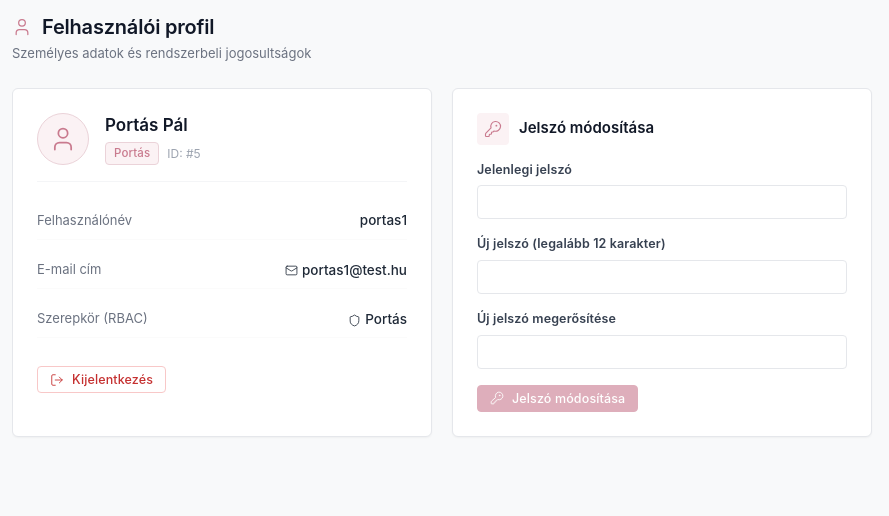
Test: ProfilePage password change › sends the current and new password and clears the form on success
Type "RegiJelszo12345" into the password field labelled "Jelenlegi jelszó".
click(662, 202); type("RegiJelszo12345")  # box [477,185,847,219]
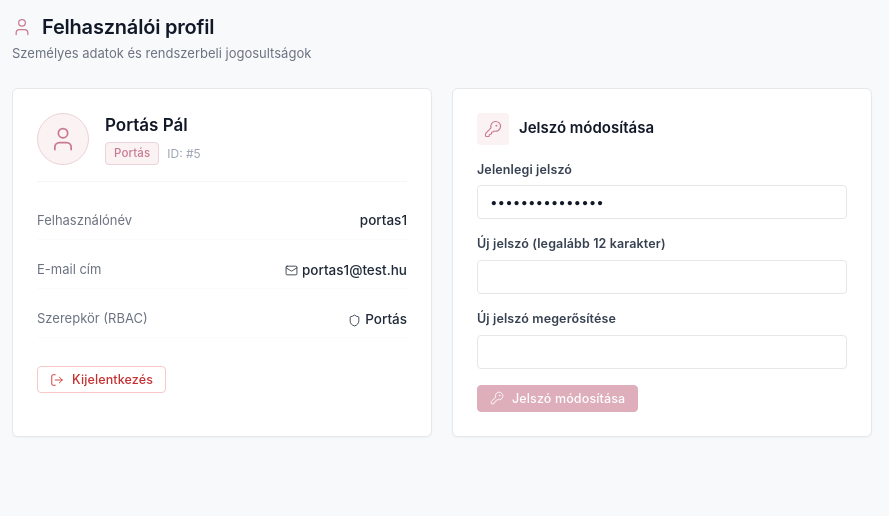
Type "UjJelszo1234567" into the password field labelled "Új jelszó (legalább 12 karakter)".
click(662, 277); type("UjJelszo1234567")  # box [477,260,847,294]
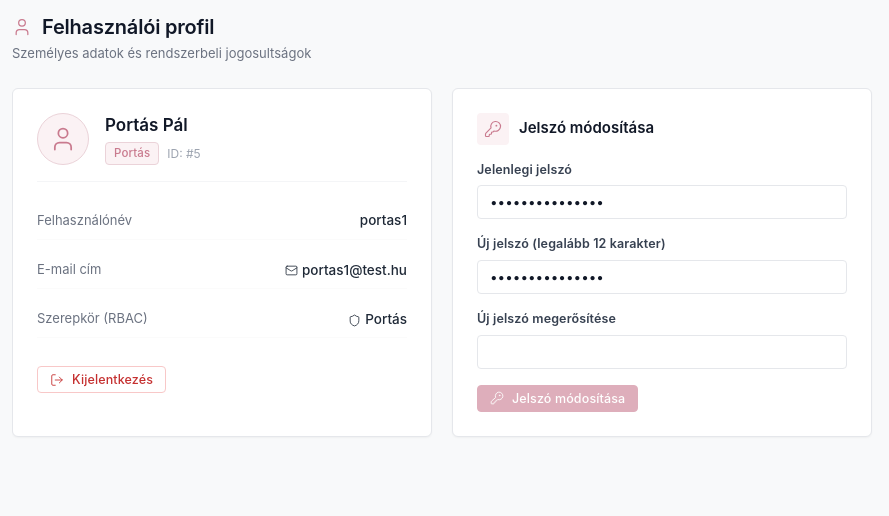
Type "UjJelszo1234567" into the password field labelled "Új jelszó megerősítése".
click(662, 352); type("UjJelszo1234567")  # box [477,335,847,369]
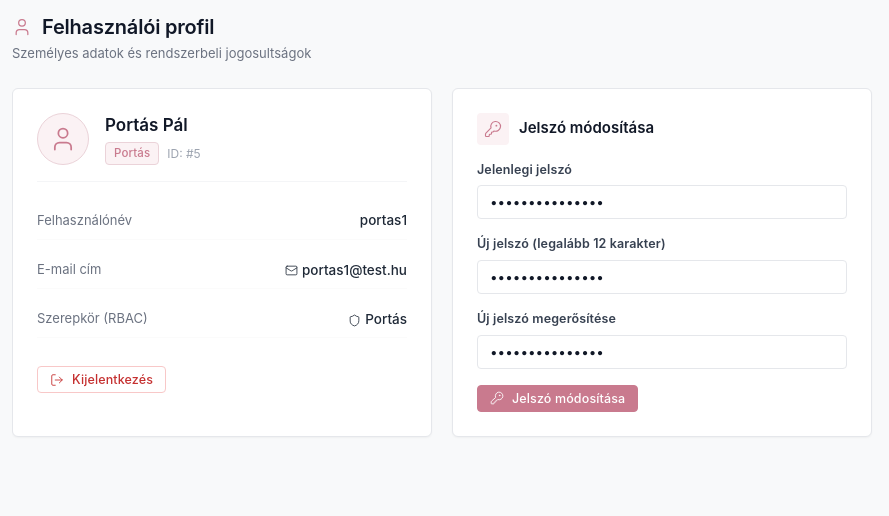
Click the button "Jelszó módosítása".
click(558, 398)  # box [477,385,638,412]
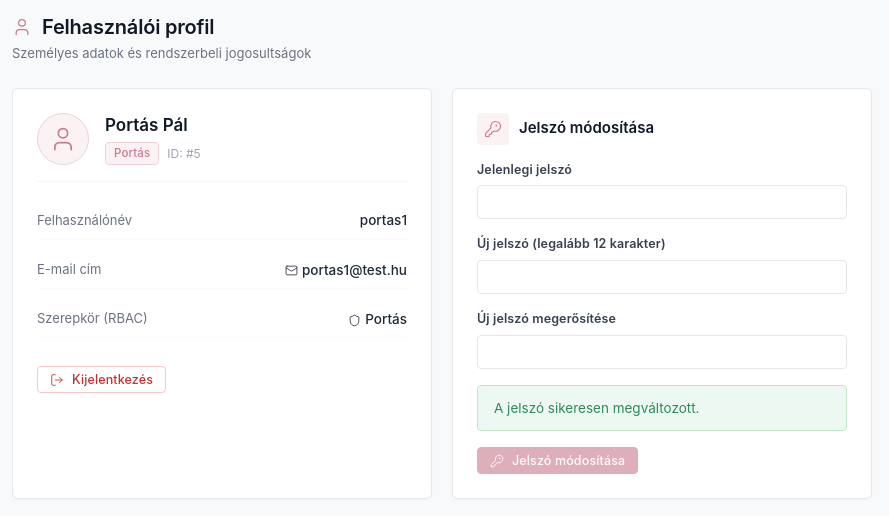
Check: the text "A jelszó sikeresen megváltozott." is shown, box [477,385,847,431]
Check: the password field labelled "Jelenlegi jelszó" is empty, box [477,185,847,219]
